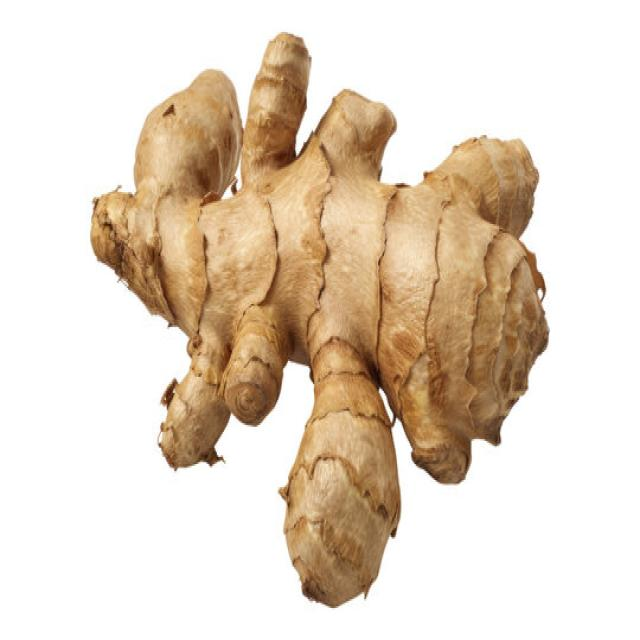Ginger: (89, 28, 550, 608)
